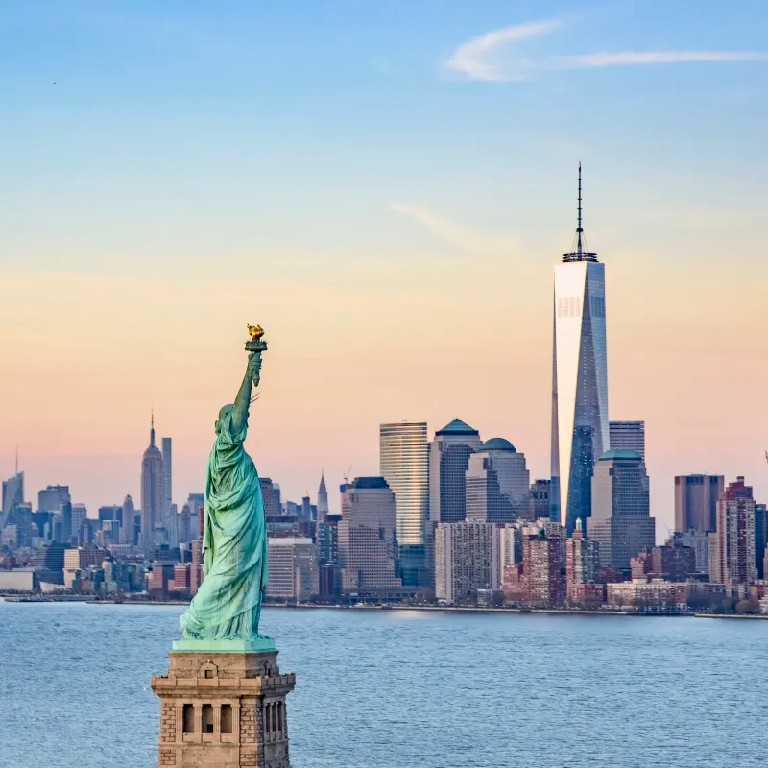SL: (151, 323, 297, 768)
